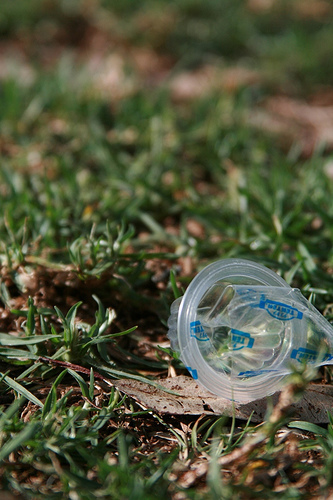litter: (166, 257, 333, 404)
